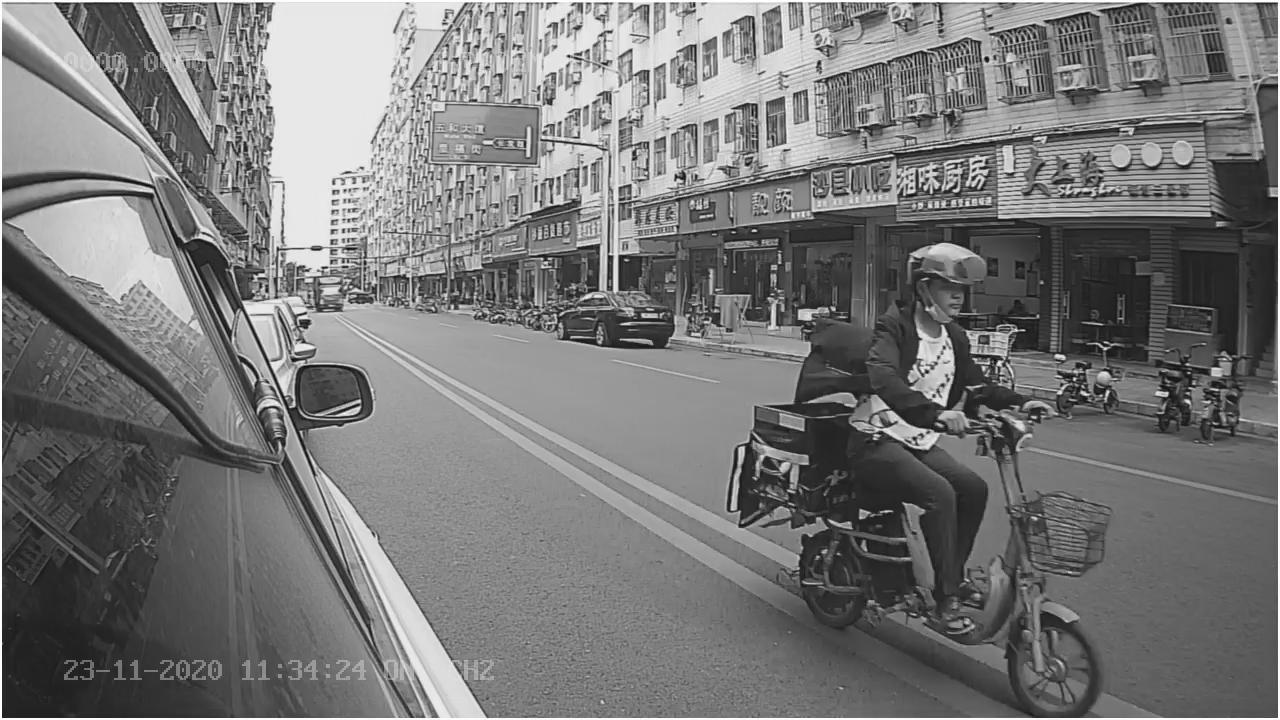person: (867, 241, 1024, 429)
